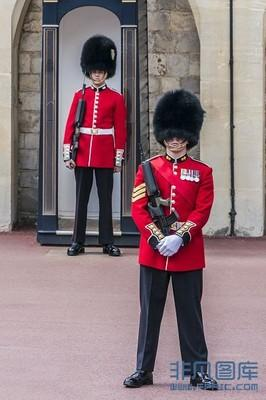up: (124, 86, 223, 390), (51, 34, 131, 259)
